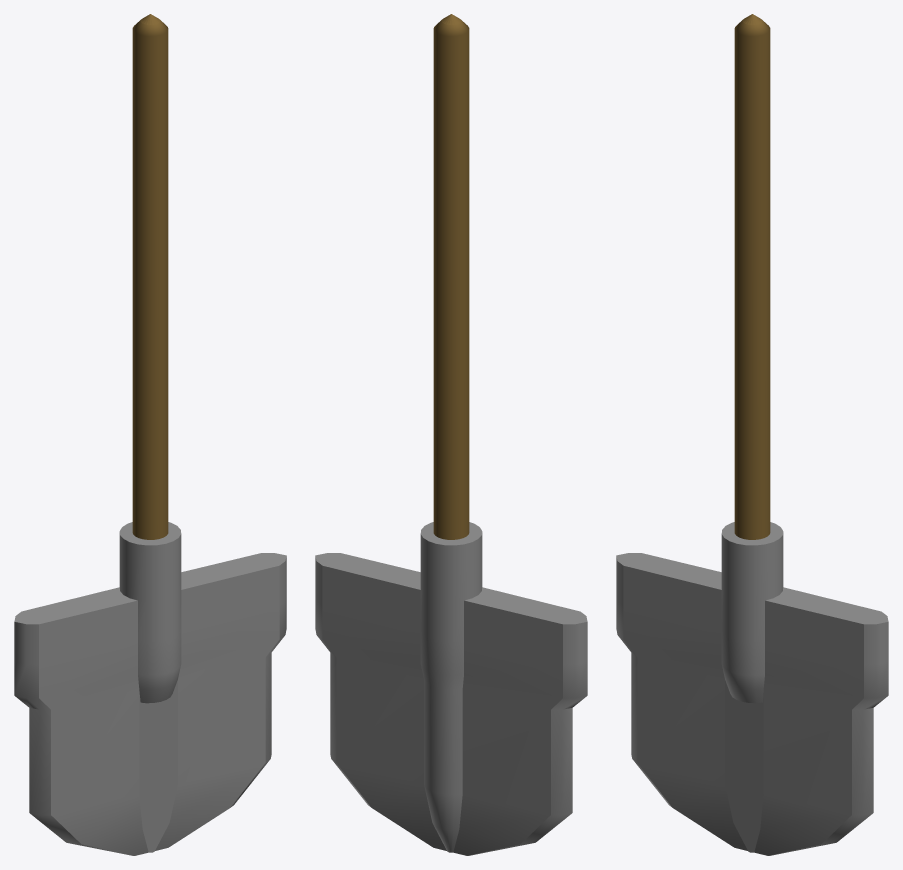
The model's file is Schep.fbx.
3 views of the same model, side by side, from view 1: azimuth 30°, elevation 25°; view 2: azimuth 150°, elevation 25°; view 3: azimuth 330°, elevation 25° (orthographic).
Visible parts, largest first — view 1: polySurface35; view 2: polySurface35; view 3: polySurface35.
Boxes of the visible parts, x1,y1,x2,y2 form: polySurface35: (14, 14, 286, 855); polySurface35: (315, 14, 587, 855); polySurface35: (616, 14, 888, 855).
Bounding box in the file's own units: 2.96 × 8.7 × 0.5838.
